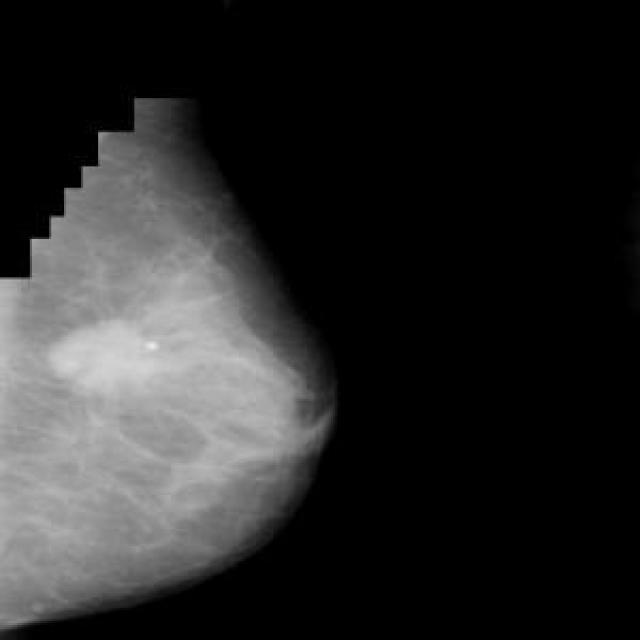tumor: (53, 304, 310, 473)
